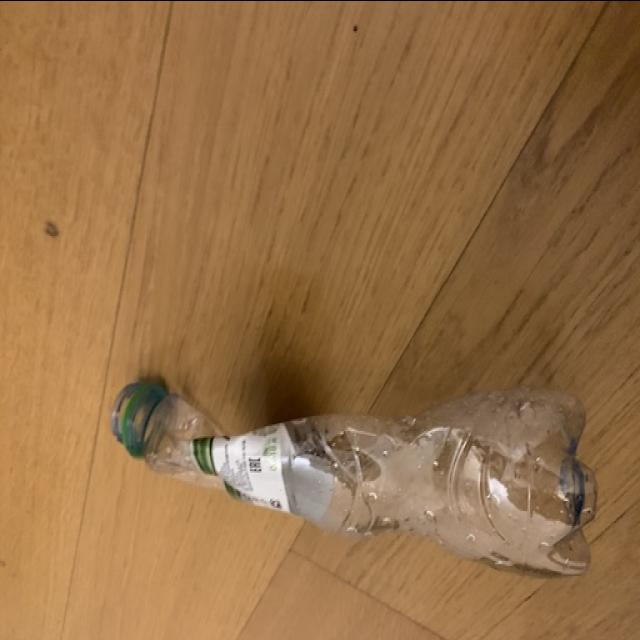litter: (101, 372, 600, 578)
